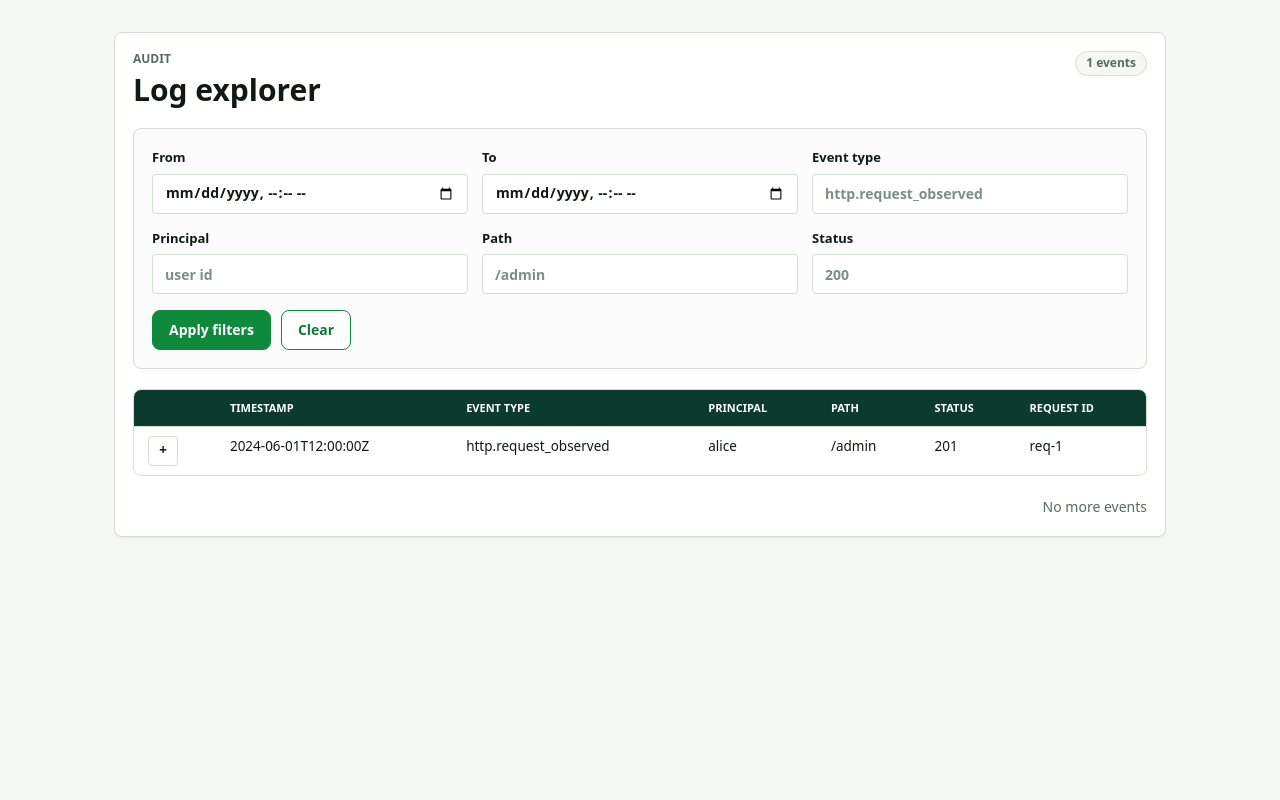
Test: LogExplorer › expands a row to reveal the complete event JSON
The width and height of the screenshot is (1280, 800).
Expected: the text "http.request_observed" is shown, x1=452 y1=426 x2=694 y2=475
Step 1. Click the button named "Expand event event-1" → [163, 451], box x1=148 y1=436 x2=178 y2=466
(page scrolled)
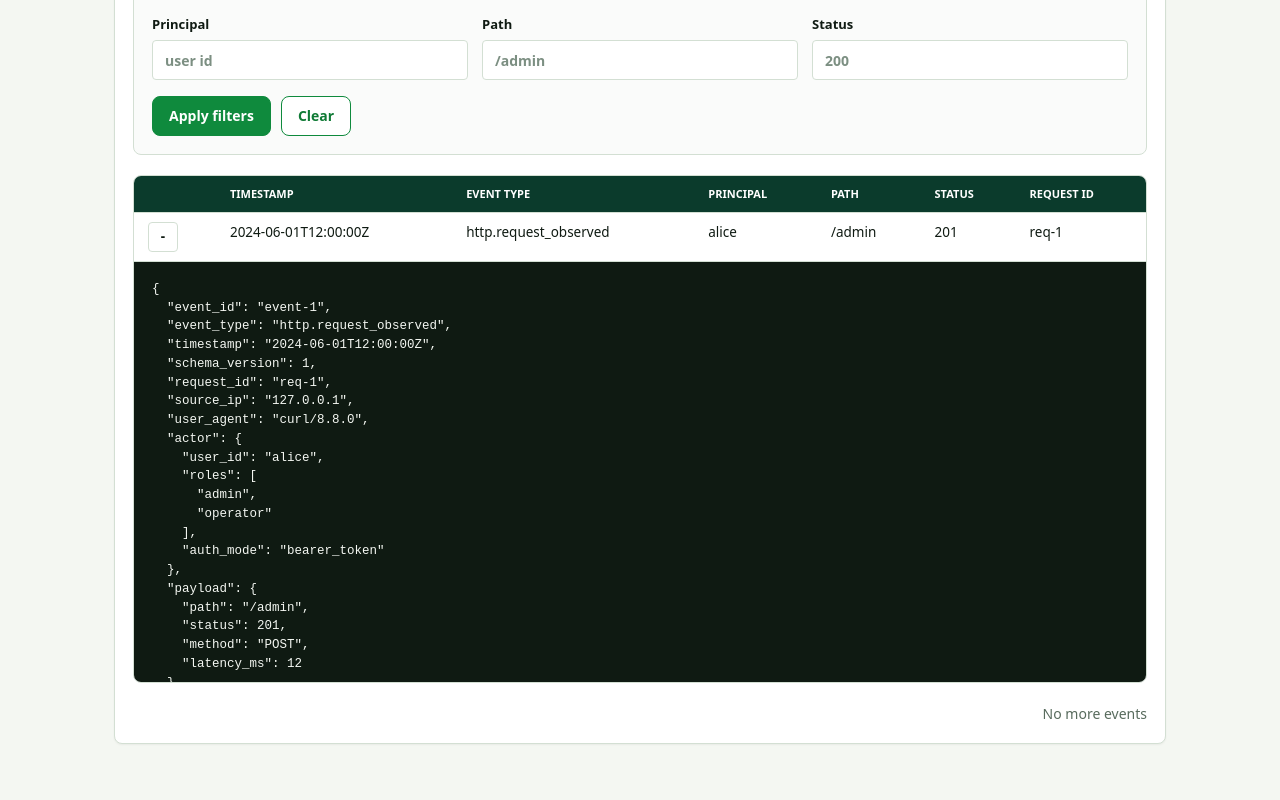
Result: the text with test id "event-json-event-1" shows "\"schema_version\": 1" at x1=152 y1=282 x2=452 y2=683
Result: the text with test id "event-json-event-1" shows "\"roles\": [" at x1=152 y1=282 x2=452 y2=683
Result: the text with test id "event-json-event-1" shows "\"user_agent\": \"curl/8.8.0\"" at x1=152 y1=282 x2=452 y2=683
